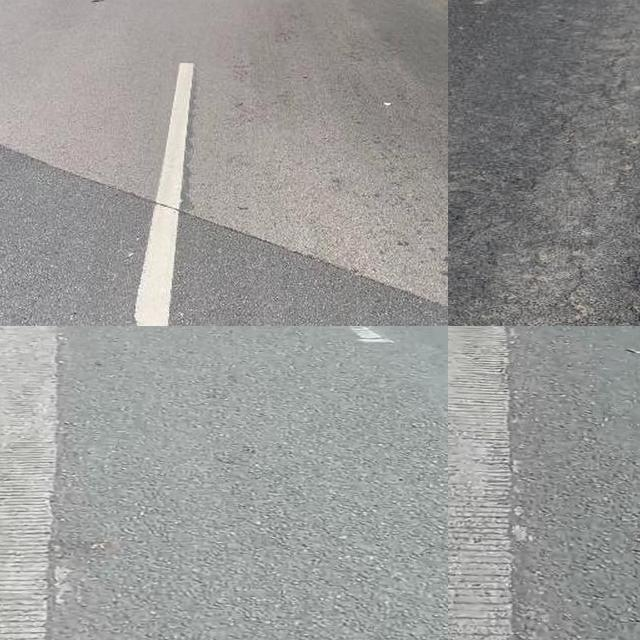Sambungan: (0, 141, 448, 326), (448, 326, 518, 640)
